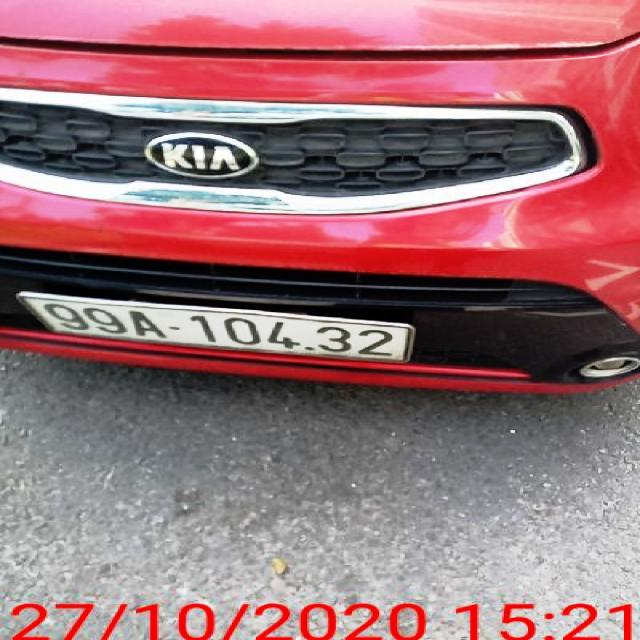license_plate: (22, 295, 414, 365)
